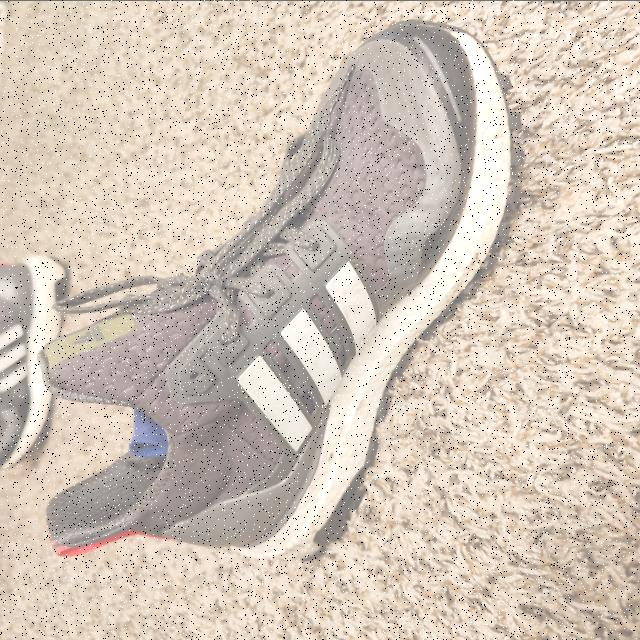black shoes: (41, 20, 518, 554)
